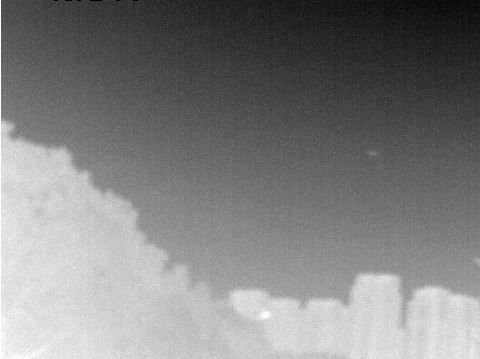dim target: (366, 149, 379, 157)
